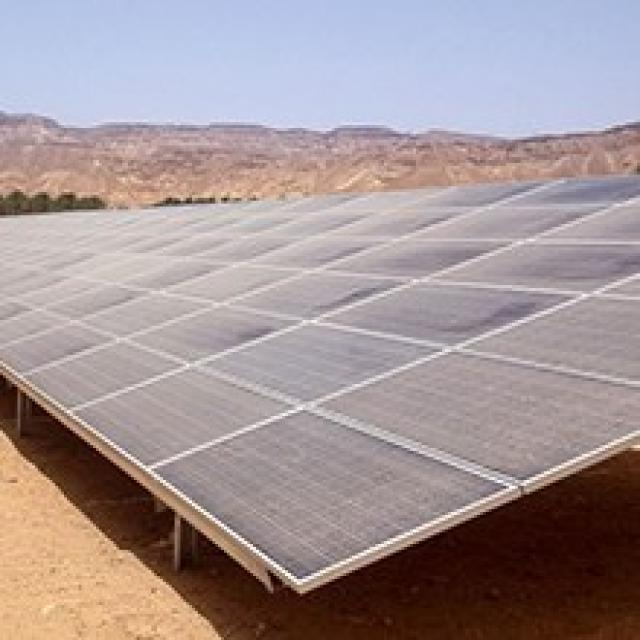dust-solar-panel: (1, 177, 640, 582)
